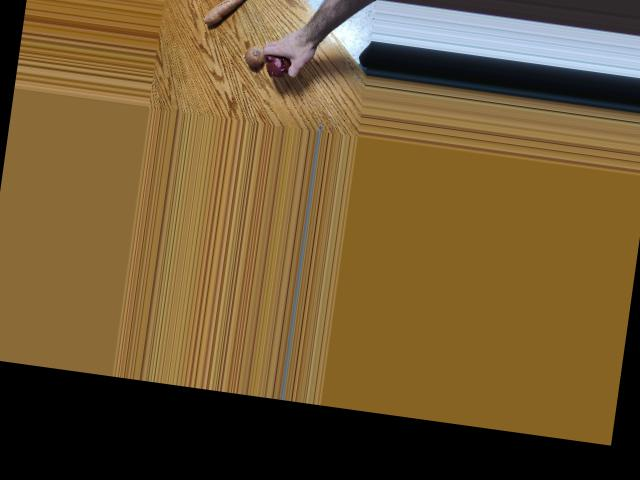onion: (244, 39, 272, 67)
